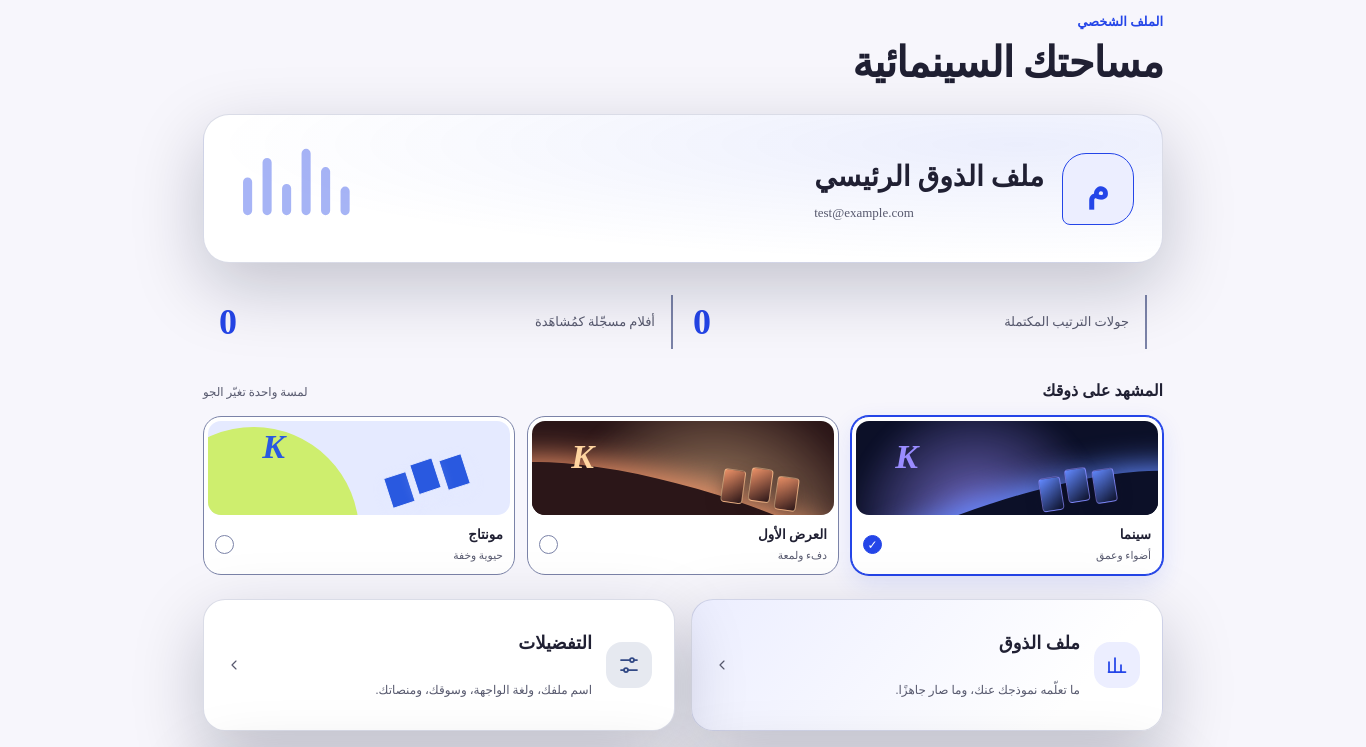
Test case: ProfileScreen — training state › shows untrained message when no snapshot exists
Click the button "ملف الذوق ما تعلّمه نموذجك عنك، وما صار جاهزًا.": (1117, 665) [691, 599, 1163, 731]
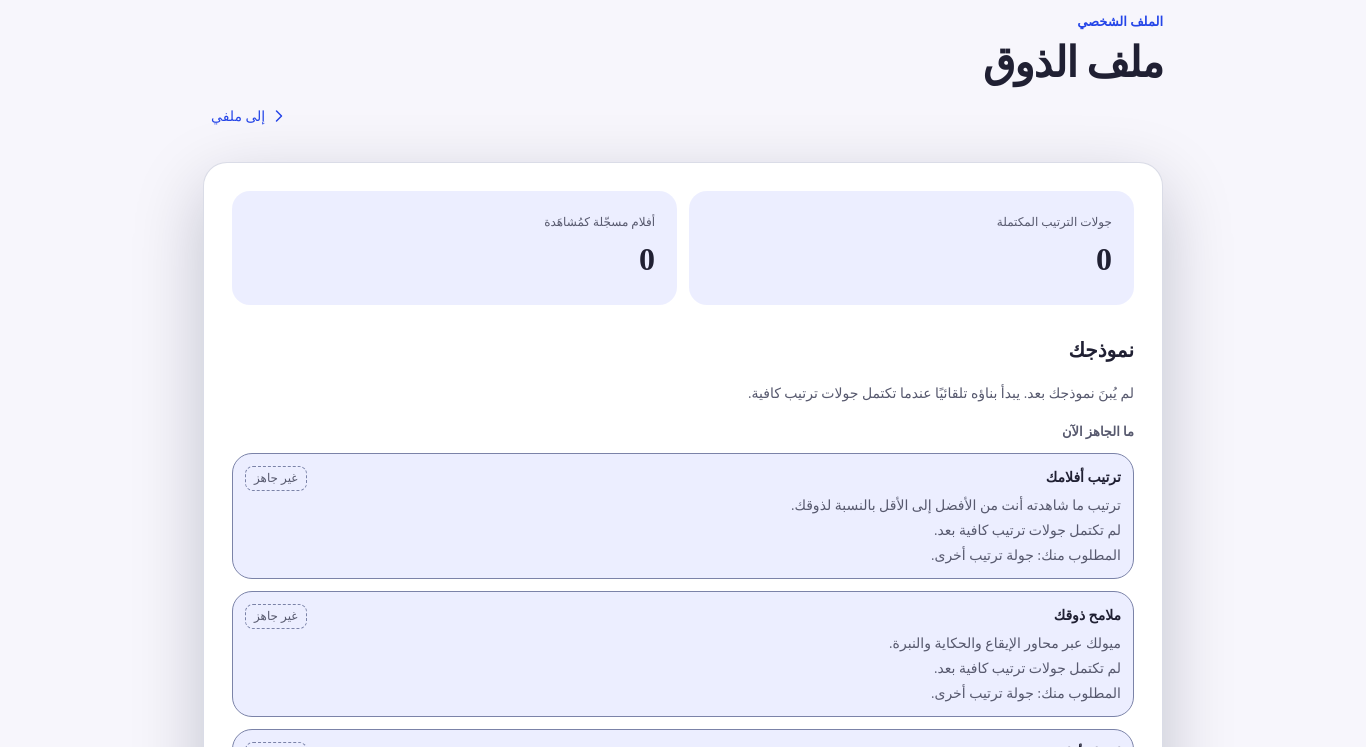
Expected: the text "لم يُبنَ نموذجك بعد" is shown, [748, 386, 1134, 401]
